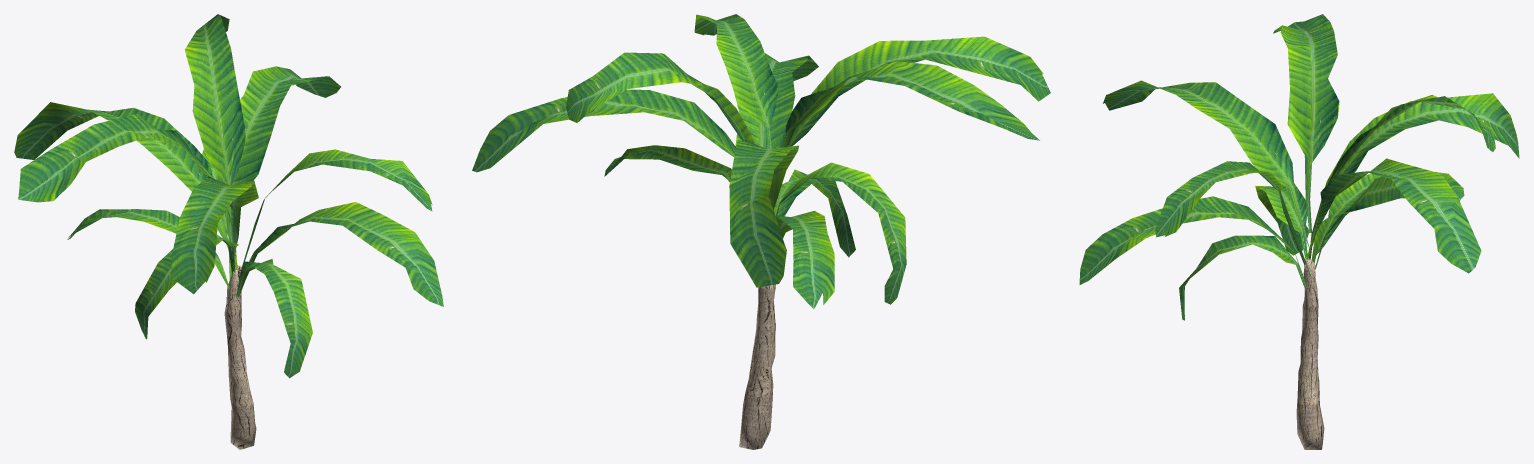
The model's file is Palm_lod_500.obj.
The picture shows the model from 3 angles, left to right: view 1: azimuth 30°, elevation 25°; view 2: azimuth 150°, elevation 25°; view 3: azimuth 270°, elevation 25°; orthographic projection. The views are drawn at different scales.
Bounding box in the file's own units: 34.25 × 30.79 × 32.8.
